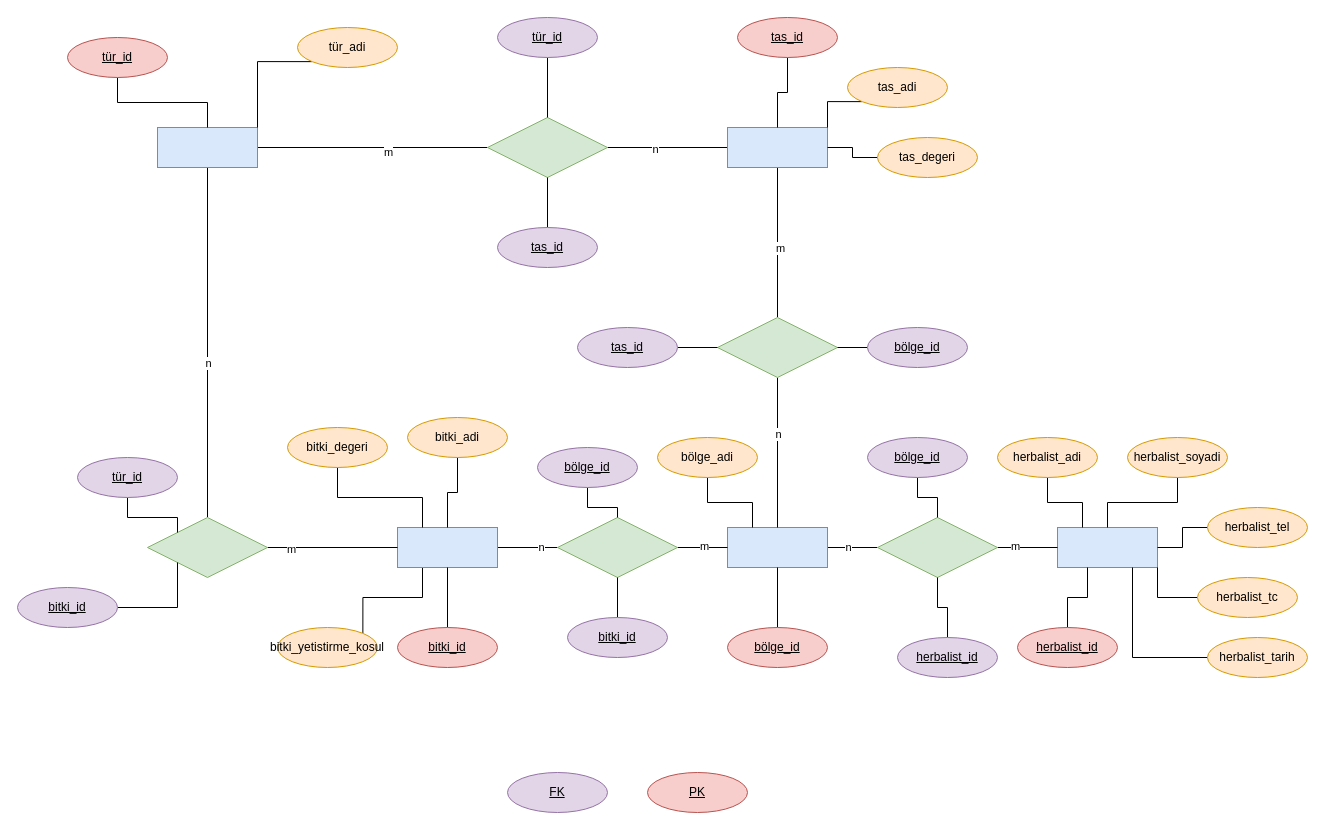
This 1325x830 diagram has some shape labels left out. Here are the shapes that lost their labels. From the top down, the centre of each, then its label:
(207,147): Turler
(547,147): tas_tur
(777,147): Taslar
(777,347): bölge_tas
(207,547): bitki_tur
(447,547): Bitki
(617,547): bölge_bitki
(777,547): Bölgeler
(937,547): bölge_herbalist
(1107,547): Herbalist
